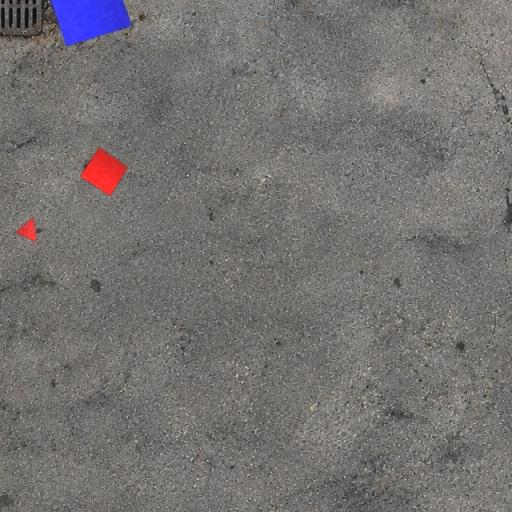BLUE_SQUARE: (44, 0, 133, 47)
RED_SQUARE: (79, 146, 129, 197)
